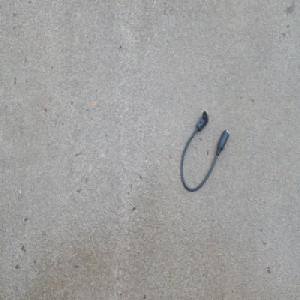Wire: (179, 109, 229, 192)
